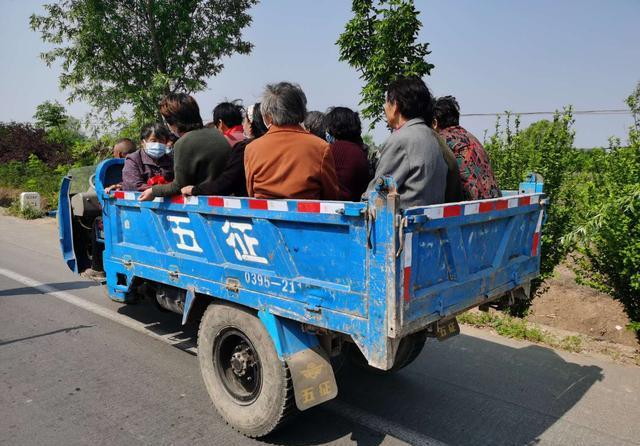driver: (73, 119, 136, 212)
overloading: (45, 86, 555, 430)
passenger: (372, 79, 445, 221), (432, 88, 497, 213), (158, 94, 230, 202), (258, 87, 314, 212), (325, 81, 379, 201), (121, 116, 170, 195), (206, 100, 243, 150), (301, 99, 327, 156), (240, 98, 266, 148)
